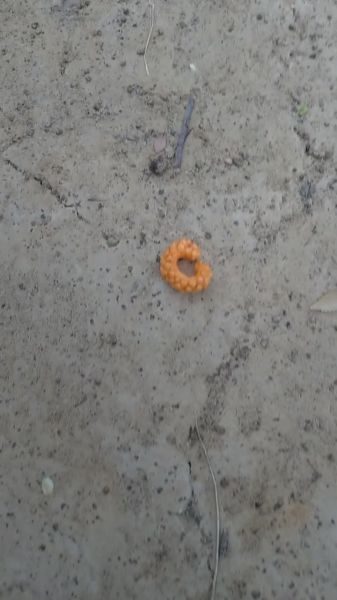eggs: (159, 234, 218, 296)
